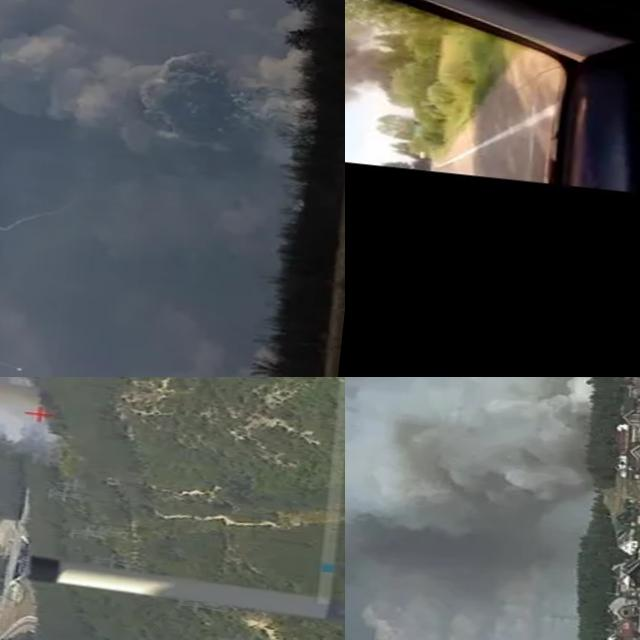smoke: (0, 0, 304, 370), (345, 377, 602, 614)
